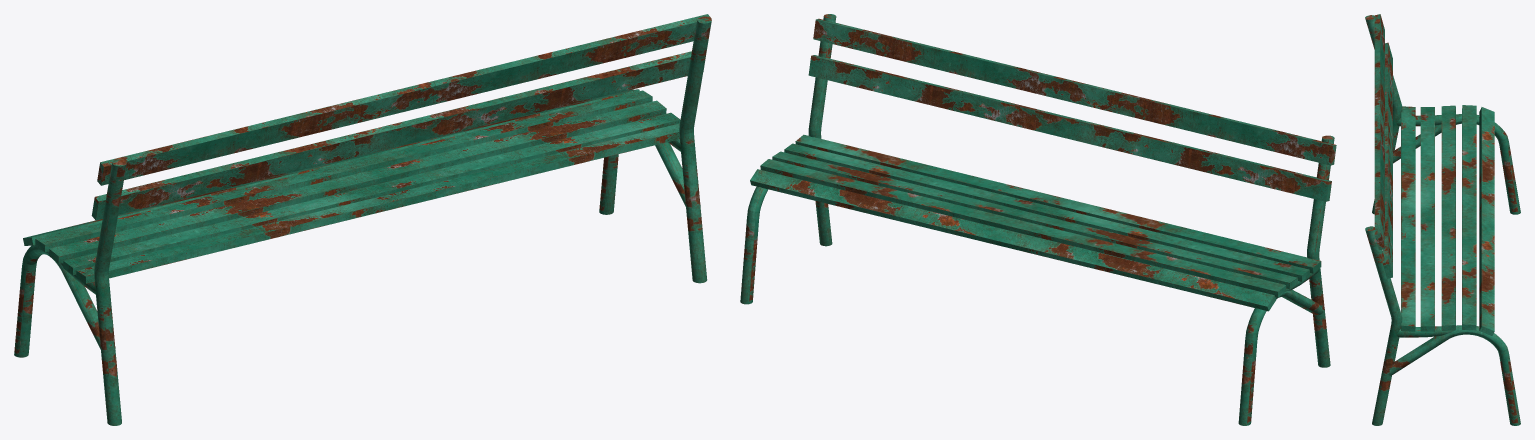
File: Iron_Park_Bench.fbx
3 views of the same model, side by side, from view 1: azimuth 30°, elevation 25°; view 2: azimuth 150°, elevation 25°; view 3: azimuth 270°, elevation 25° (orthographic). The views are drawn at different scales.
Parts seen in each view (by area): view 1: Iron_Bench; view 2: Iron_Bench; view 3: Iron_Bench.
Boxes of the visible parts, box(x1,y1,x2,y2) form: Iron_Bench: box(14, 14, 711, 425); Iron_Bench: box(740, 14, 1336, 425); Iron_Bench: box(1365, 14, 1520, 425).
Size of the model in its own units: 238 by 98.63 by 71.39.
Materials: 1 (1 with a texture image).
